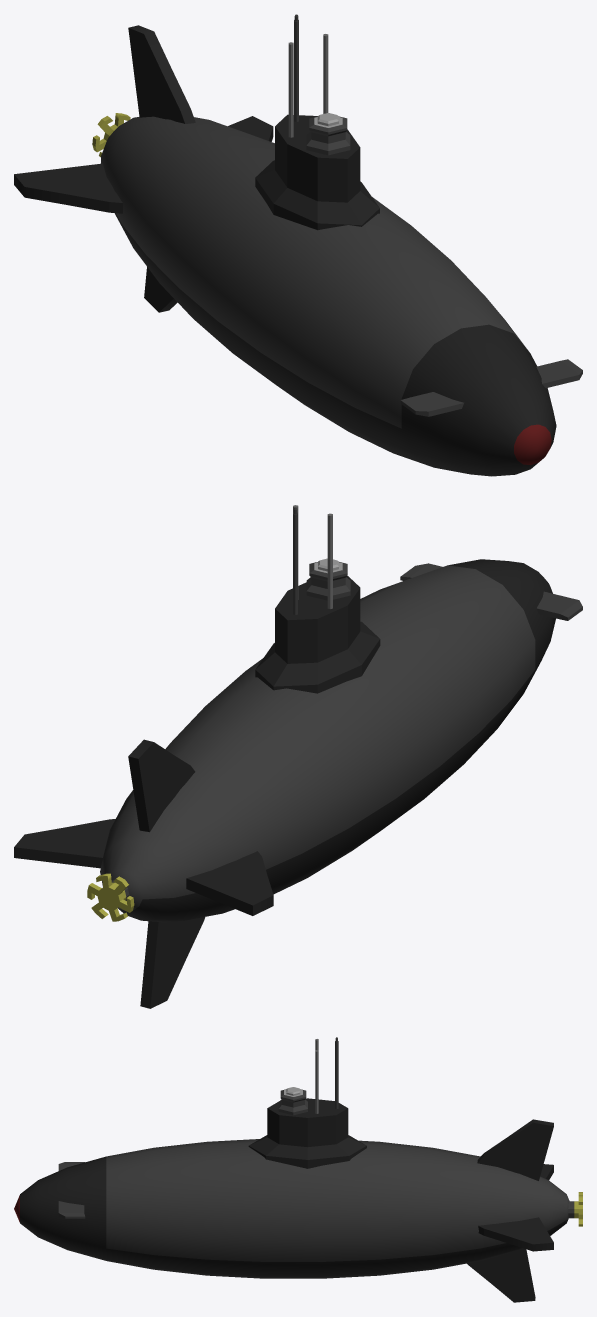
Rendered from Submarine.fbx.
3 views of the same model, one above another, from view 1: azimuth 30°, elevation 25°; view 2: azimuth 150°, elevation 25°; view 3: azimuth 270°, elevation 25° (orthographic). The views are drawn at different scales.
Parts seen in each view (by area): view 1: pSphere1, pCylinder1, pCube1, pCube2, pCylinder6, pCube6, pCube5, pCube4, pCube3; view 2: pSphere1, pCylinder1, pCube1, pCube4, pCube2, pCube3, pCylinder2, pCylinder6, pCube6; view 3: pSphere1, pCylinder1, pCube1, pCube4, pCube3, pCylinder6, pCube5.
Part boxes in pixels (bbox=[...]): pSphere1: bbox=[101, 116, 556, 476]; pCylinder1: bbox=[255, 114, 379, 230]; pCube1: bbox=[128, 25, 195, 123]; pCube2: bbox=[14, 163, 122, 213]; pCylinder6: bbox=[306, 113, 350, 155]; pCube6: bbox=[400, 392, 463, 416]; pCube5: bbox=[536, 359, 582, 388]; pCube4: bbox=[144, 267, 177, 312]; pCube3: bbox=[228, 116, 273, 141]; pSphere1: bbox=[100, 559, 555, 922]; pCylinder1: bbox=[255, 576, 380, 693]; pCube1: bbox=[128, 739, 195, 832]; pCube4: bbox=[140, 917, 205, 1008]; pCube2: bbox=[186, 851, 273, 915]; pCube3: bbox=[14, 819, 115, 868]; pCylinder2: bbox=[87, 873, 134, 921]; pCylinder6: bbox=[306, 558, 350, 600]; pCube6: bbox=[536, 591, 582, 620]; pSphere1: bbox=[14, 1139, 569, 1278]; pCylinder1: bbox=[248, 1098, 366, 1168]; pCube1: bbox=[477, 1119, 553, 1180]; pCube4: bbox=[467, 1248, 535, 1302]; pCube3: bbox=[478, 1217, 553, 1251]; pCylinder6: bbox=[278, 1087, 307, 1115]; pCube5: bbox=[58, 1201, 85, 1218].
Bounding box in the file's own units: 8.26 × 12.5 × 24.48.
